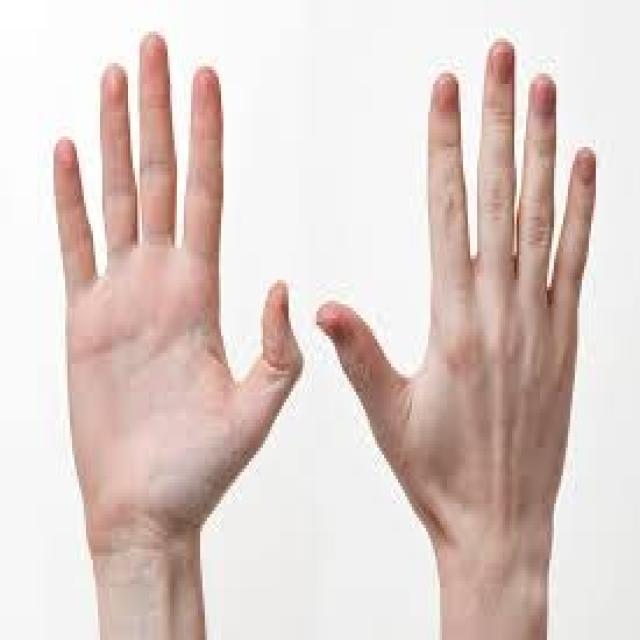Hand: (316, 30, 600, 548), (46, 26, 307, 555)
